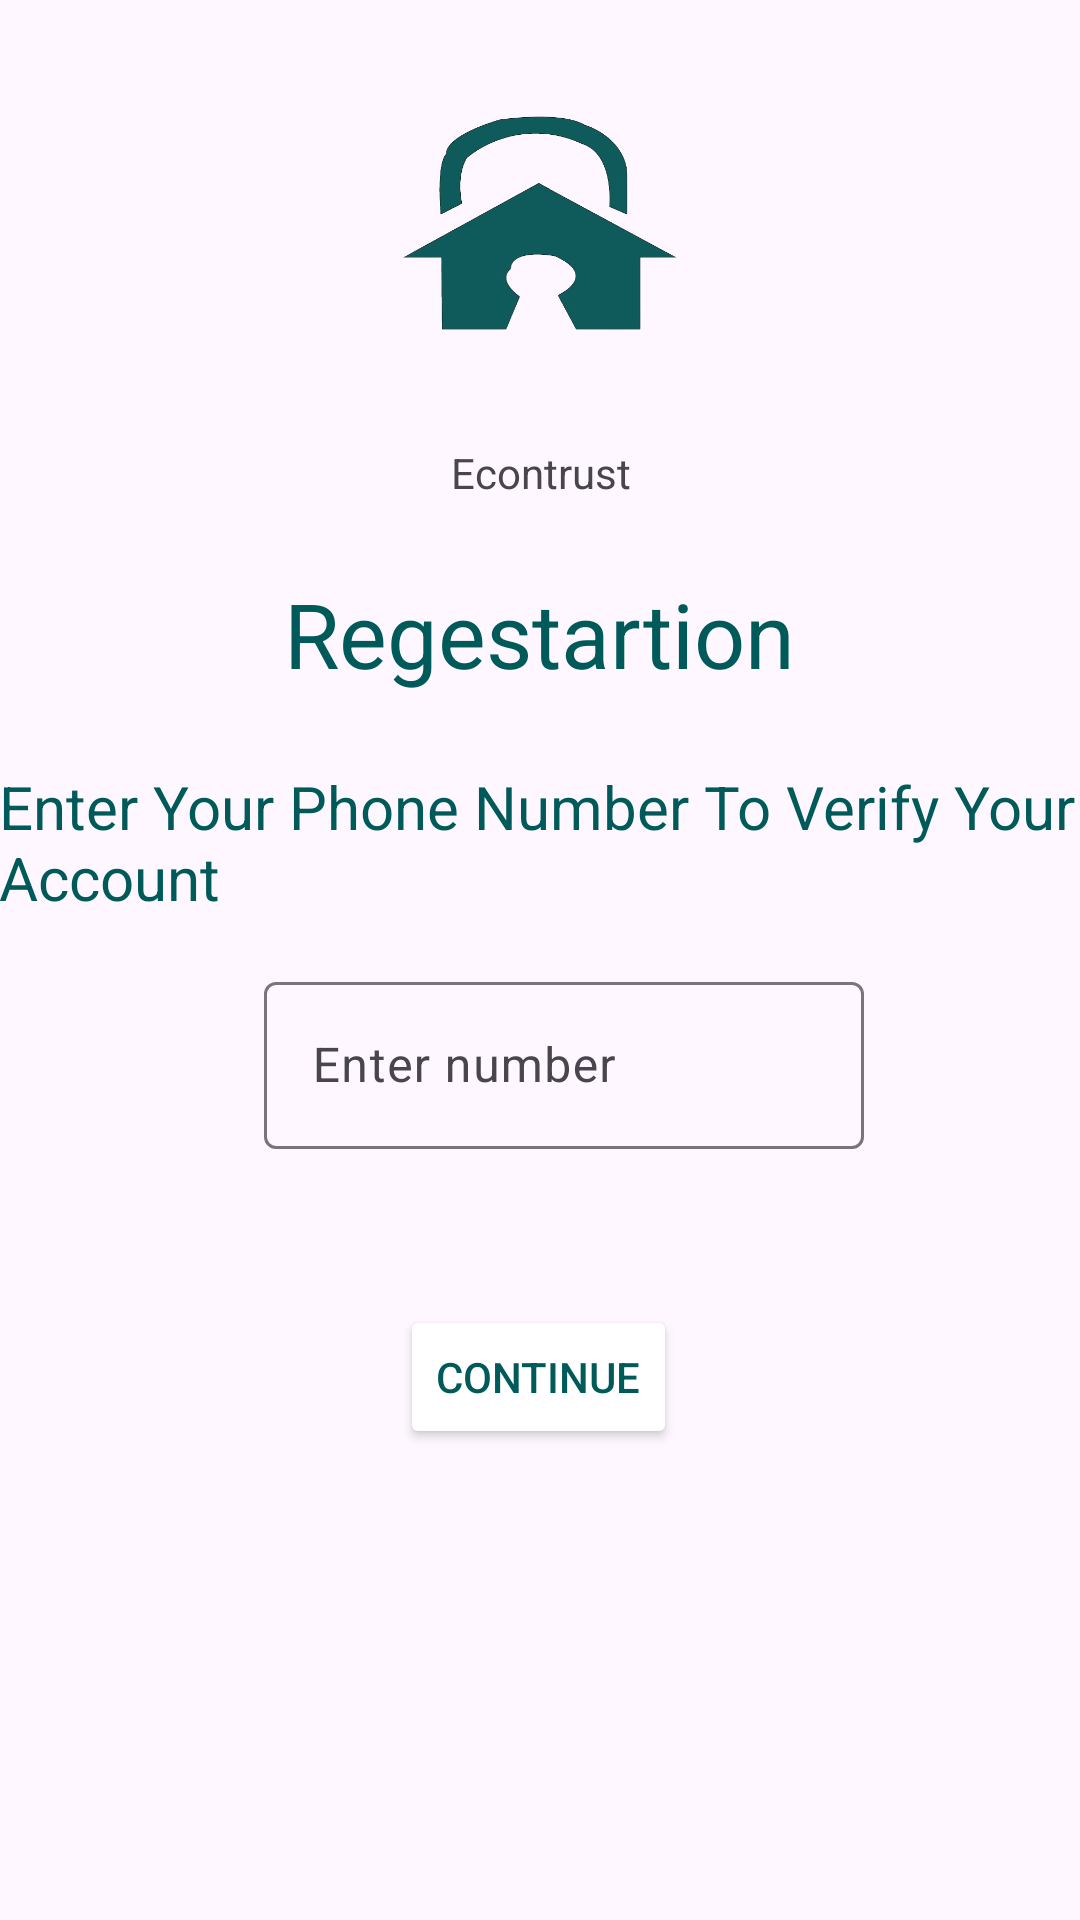

Point at icon controls on the screen. Image size 1080×1920, points as [x,y].
log: [540,223]
